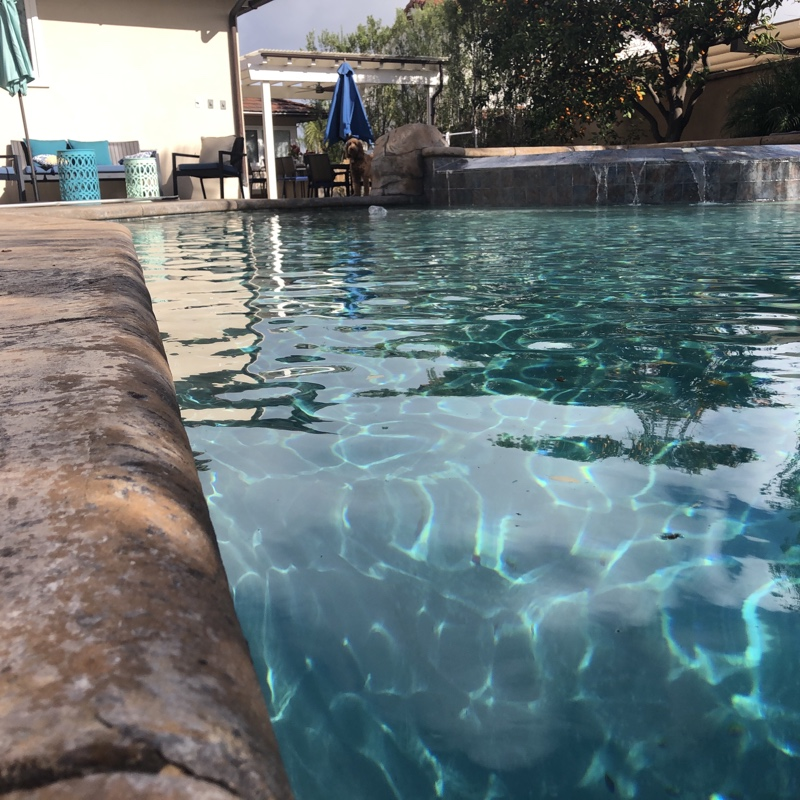Plastic Bottle: (368, 202, 386, 220)
